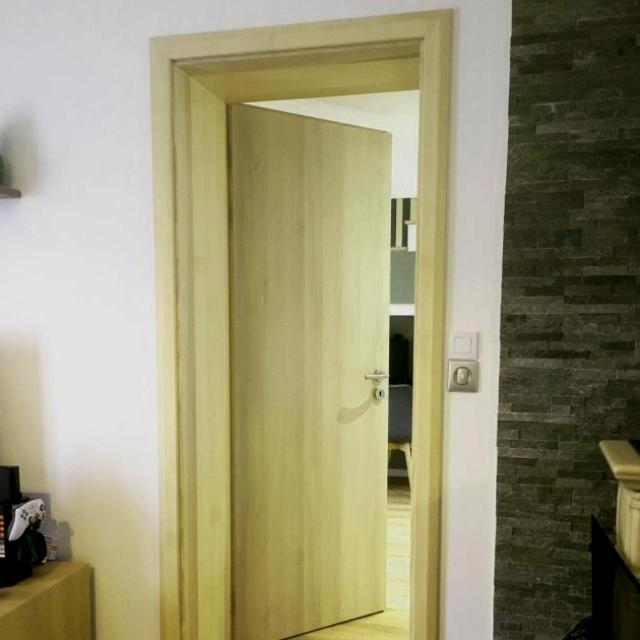Door: (226, 101, 391, 638)
